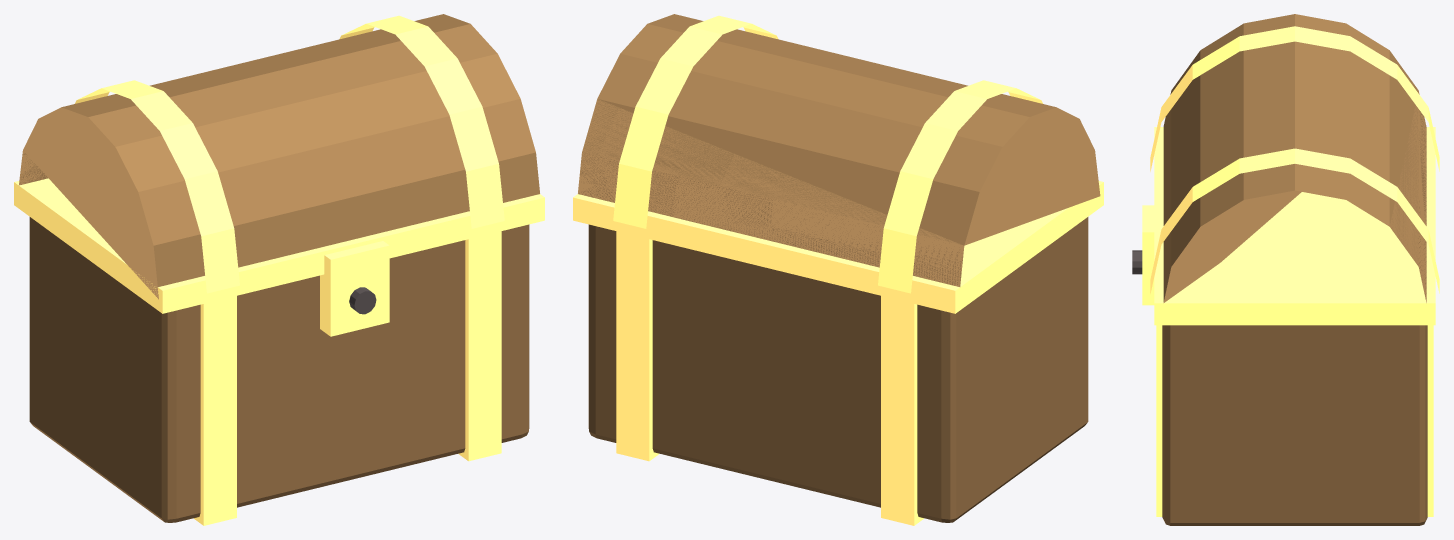
The model's file is Chest.fbx.
3 views of the same model, side by side, from view 1: azimuth 30°, elevation 25°; view 2: azimuth 150°, elevation 25°; view 3: azimuth 270°, elevation 25° (orthographic). The views are drawn at different scales.
Visible parts, largest first — view 1: Chest; view 2: Chest; view 3: Chest.
Part boxes in pixels (<box>): Chest: <box>14,14,544,525</box>; Chest: <box>573,14,1103,525</box>; Chest: <box>1132,14,1439,525</box>.
Bounding box in the file's own units: 1.04 × 0.97 × 0.765.
